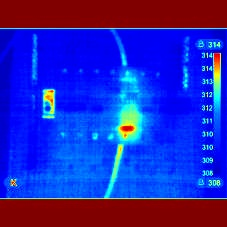Critical: (110, 113, 145, 149)
